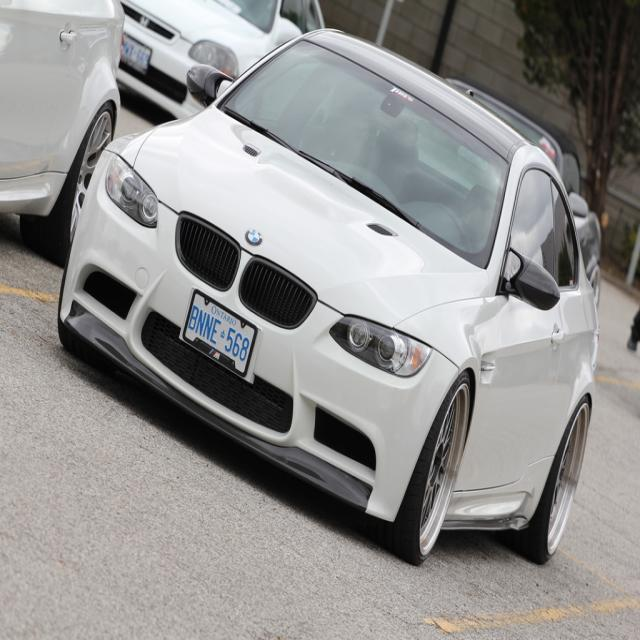car: (55, 28, 600, 575)
